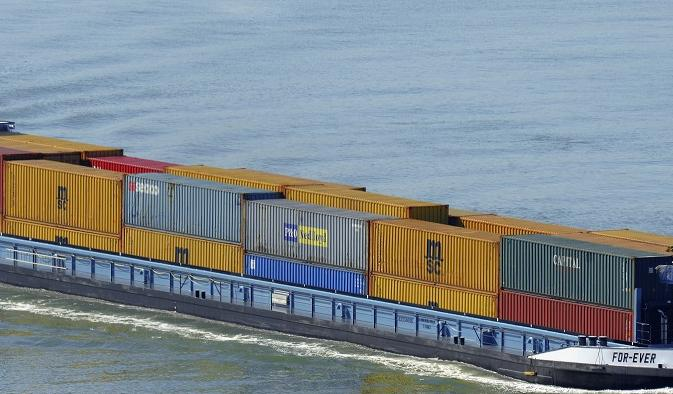Ship: (0, 28, 673, 394)
